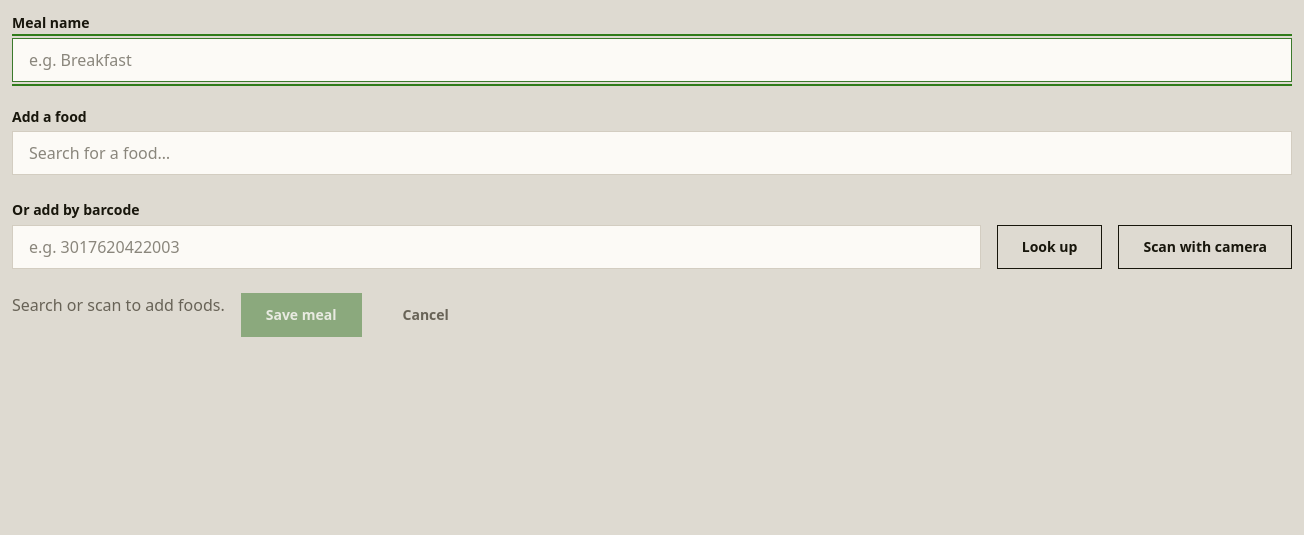
Test: MealEditor › strips leading zeros from an amount
The image size is (1304, 535).
In the field labelled "Or add by barcode": (496, 247) [12, 225, 981, 269], type "6000"
Then press Enter
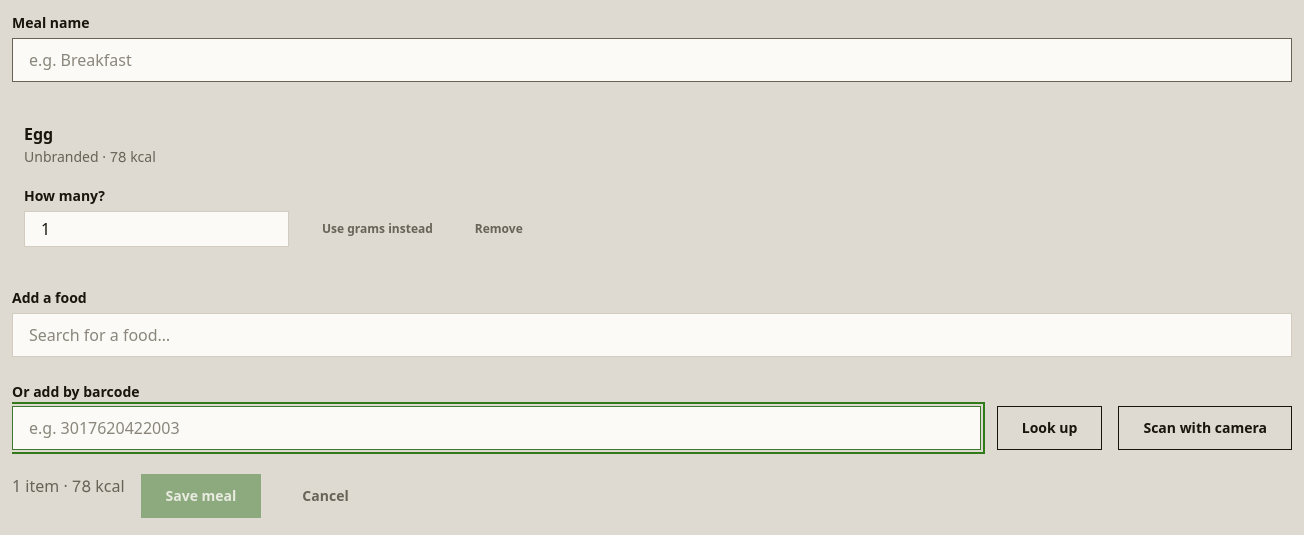
Replace the text in the number field labelled "How many?" with "03": (156, 229) [24, 211, 289, 247]
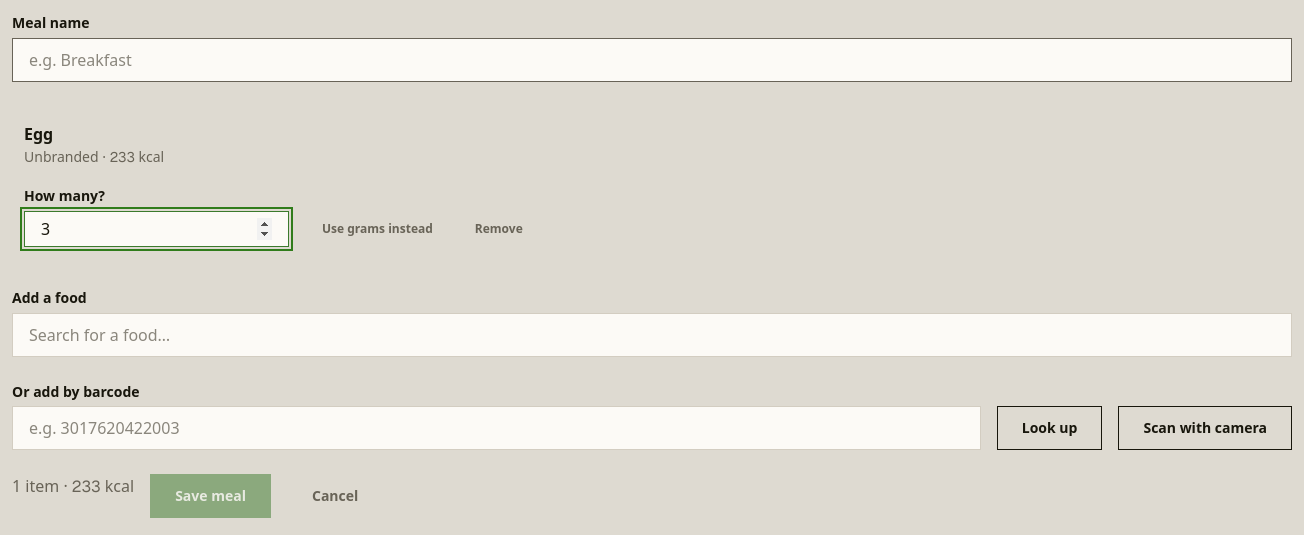
Check: the number field labelled "How many?" holds "3", box [24, 211, 289, 247]
